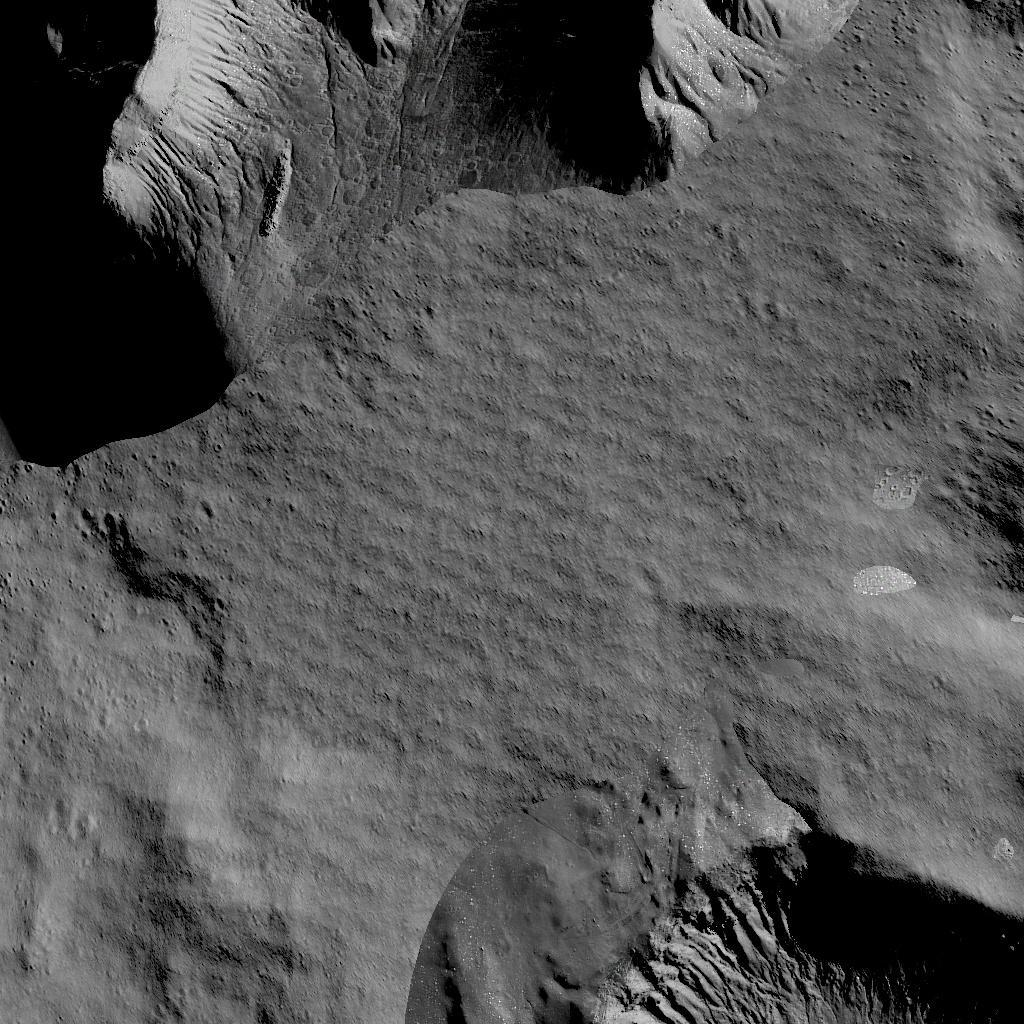Boulders: (34, 0, 866, 381)
Crater: (451, 768, 1024, 1024), (949, 406, 1024, 598)
Plan surface: (0, 464, 428, 1024), (444, 404, 922, 734), (901, 0, 1024, 344)
